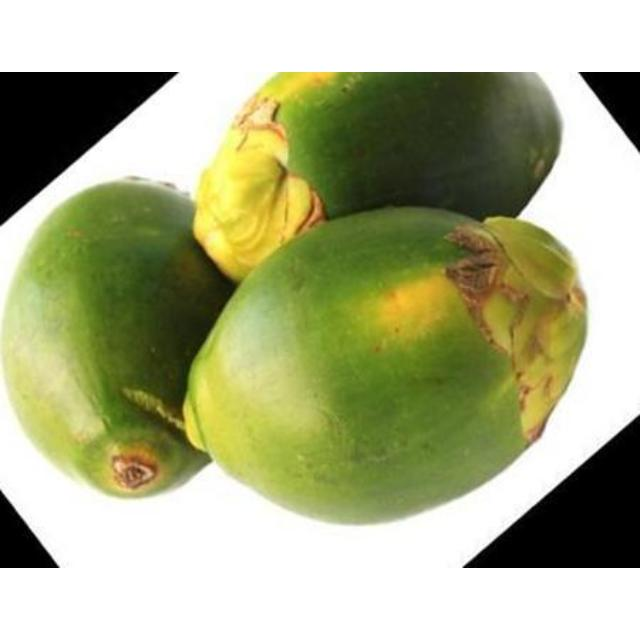good: (181, 207, 592, 529), (192, 72, 563, 285), (0, 177, 239, 504)
